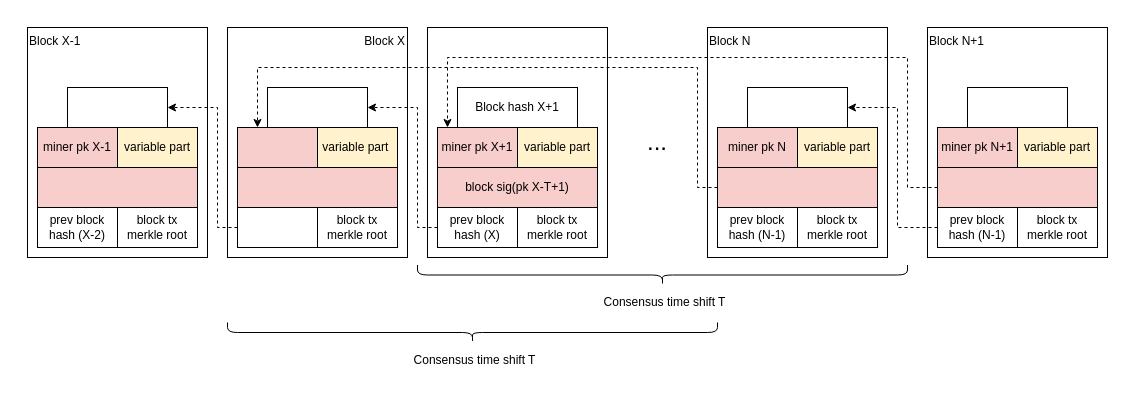
Some shapes in this 1134 by 394 pixel diagram are drawn without their labels. The shapes that lost their labels are listed below. From the top down, each one's box as (x1, y1, x2, y2) in pixels, then its label:
(66, 86, 168, 128): Block hash X-1
(266, 86, 368, 128): Block hash X
(746, 86, 848, 128): block hash N (solution)
(966, 86, 1068, 128): block hash N+1 (solution)
(236, 126, 318, 168): miner pk X
(426, 26, 608, 258): Block X+1
(36, 166, 198, 208): block sig(pk X-T-1)
(236, 166, 398, 208): block sig(pk X-T)
(716, 166, 878, 208): block sig(pk X = N-T)
(936, 166, 1098, 208): block sig(pk X+1)
(236, 206, 318, 248): prev block hash (X-1)
